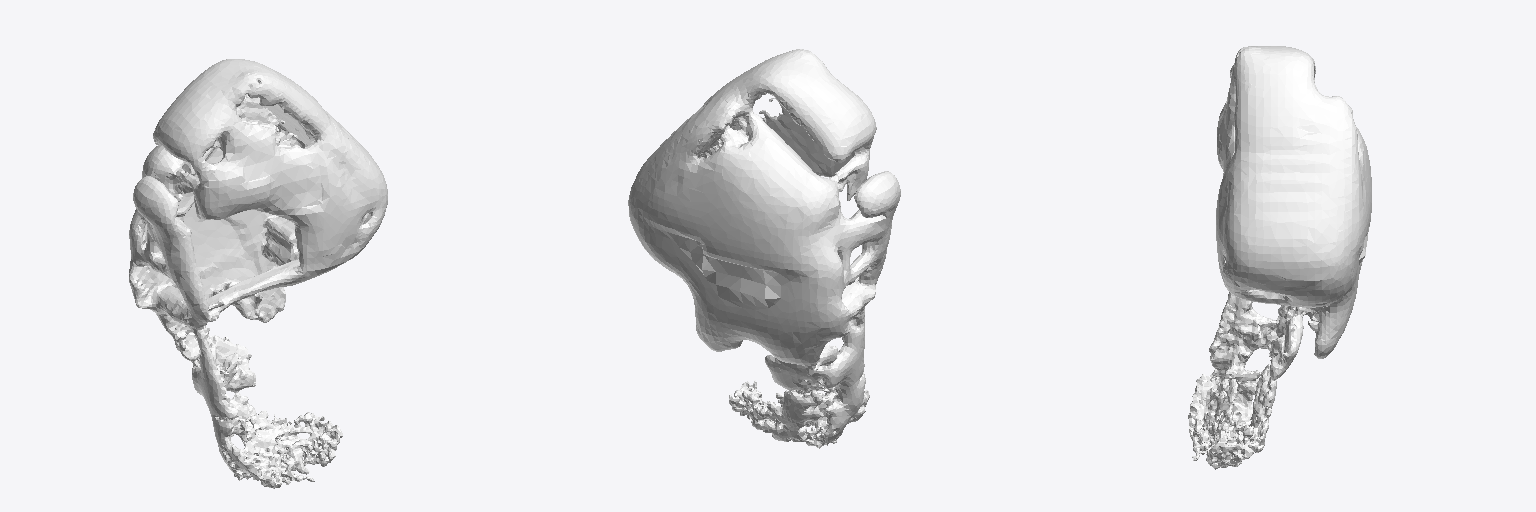
Rendered from scan3.obj.
3 renders of one model, left to right at view 1: azimuth 30°, elevation 25°; view 2: azimuth 150°, elevation 25°; view 3: azimuth 270°, elevation 25°, orthographic.
Size of the model in its own units: 7.71 by 12.19 by 5.14.